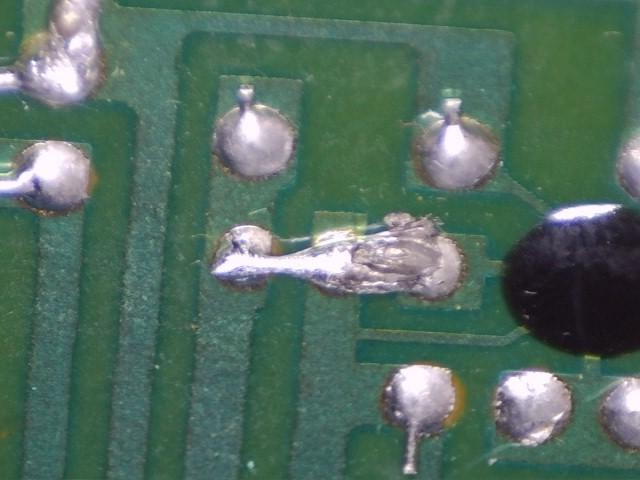pcb_defect: (210, 214, 460, 298)
